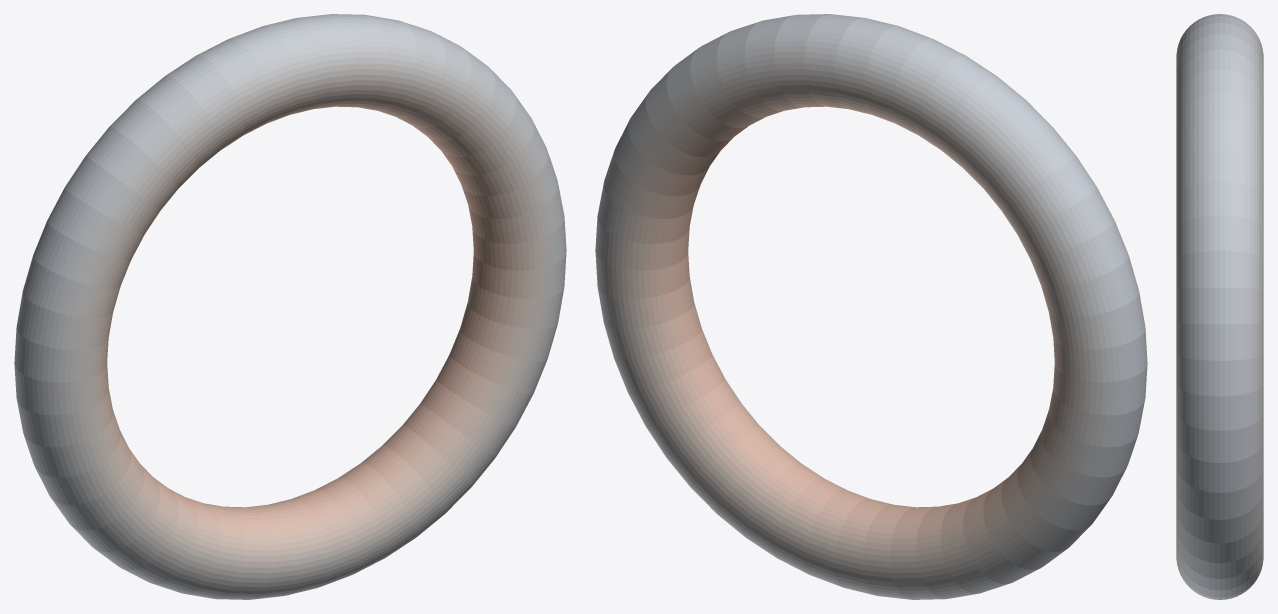
3 renders of one model, left to right at view 1: azimuth 30°, elevation 25°; view 2: azimuth 150°, elevation 25°; view 3: azimuth 270°, elevation 25°, orthographic. The views are drawn at different scales.
Parts seen in each view (by area): view 1: world; view 2: world; view 3: world.
Part boxes in pixels (x1,y1,x2,y2): world: [14, 14, 566, 599]; world: [595, 14, 1147, 599]; world: [1176, 14, 1263, 599].
Bounding box in the file's own units: 31.33 × 31.27 × 4.66.
